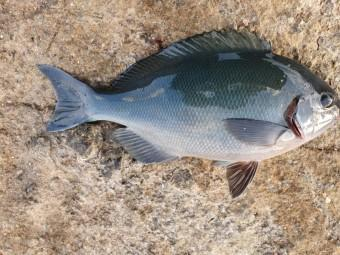fish: (36, 29, 339, 200)
